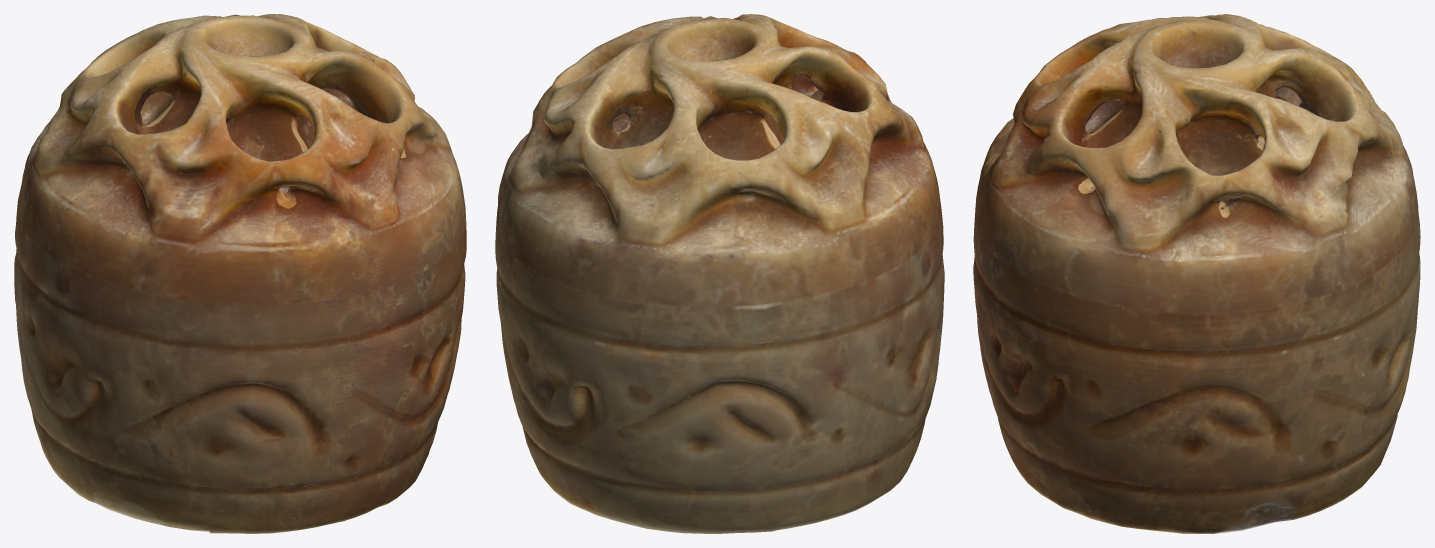
The model's file is art19.glb.
The picture shows the model from 3 angles, left to right: view 1: azimuth 30°, elevation 25°; view 2: azimuth 150°, elevation 25°; view 3: azimuth 270°, elevation 25°; orthographic projection.
Parts seen in each view (by area): view 1: Object_2; view 2: Object_2; view 3: Object_2.
Boxes of the visible parts, box(x1,y1,x2,y2) form: Object_2: box(14, 14, 466, 533); Object_2: box(495, 14, 944, 533); Object_2: box(973, 14, 1420, 533).
Size of the model in its own units: 0.5771 by 0.6007 by 0.5776.
Materials: 1 (1 with a texture image).
